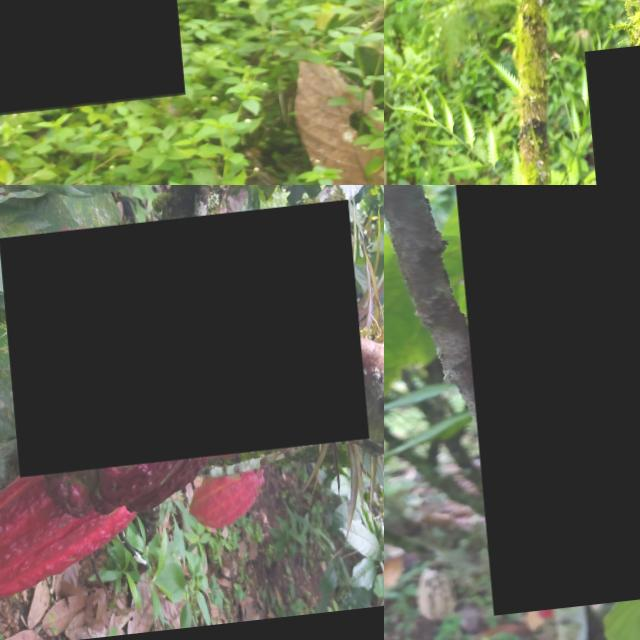Fitoftora: (0, 0, 175, 121)
Monilia: (0, 208, 360, 477), (451, 185, 640, 619)
Sana: (0, 446, 131, 601), (35, 413, 208, 525), (178, 476, 258, 539)
